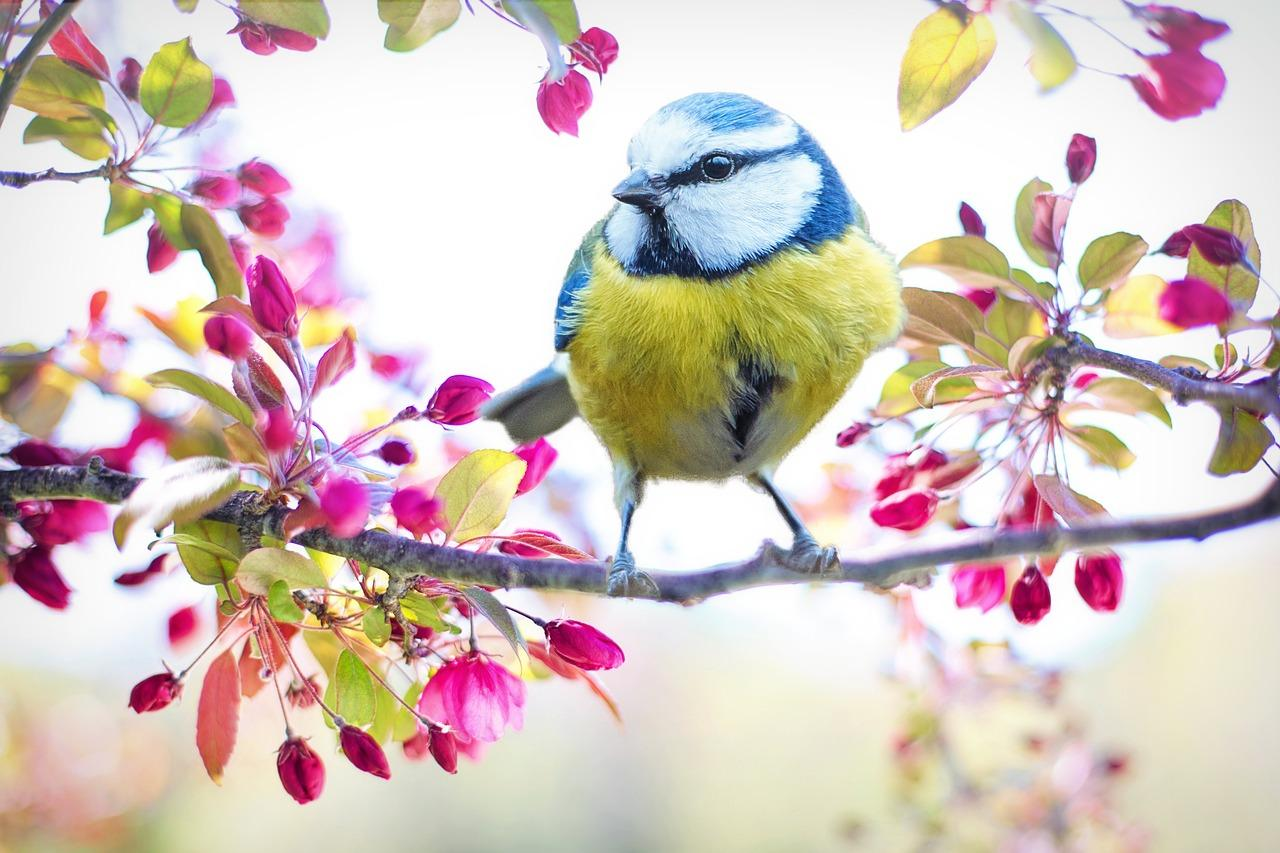bird: (481, 92, 906, 595)
